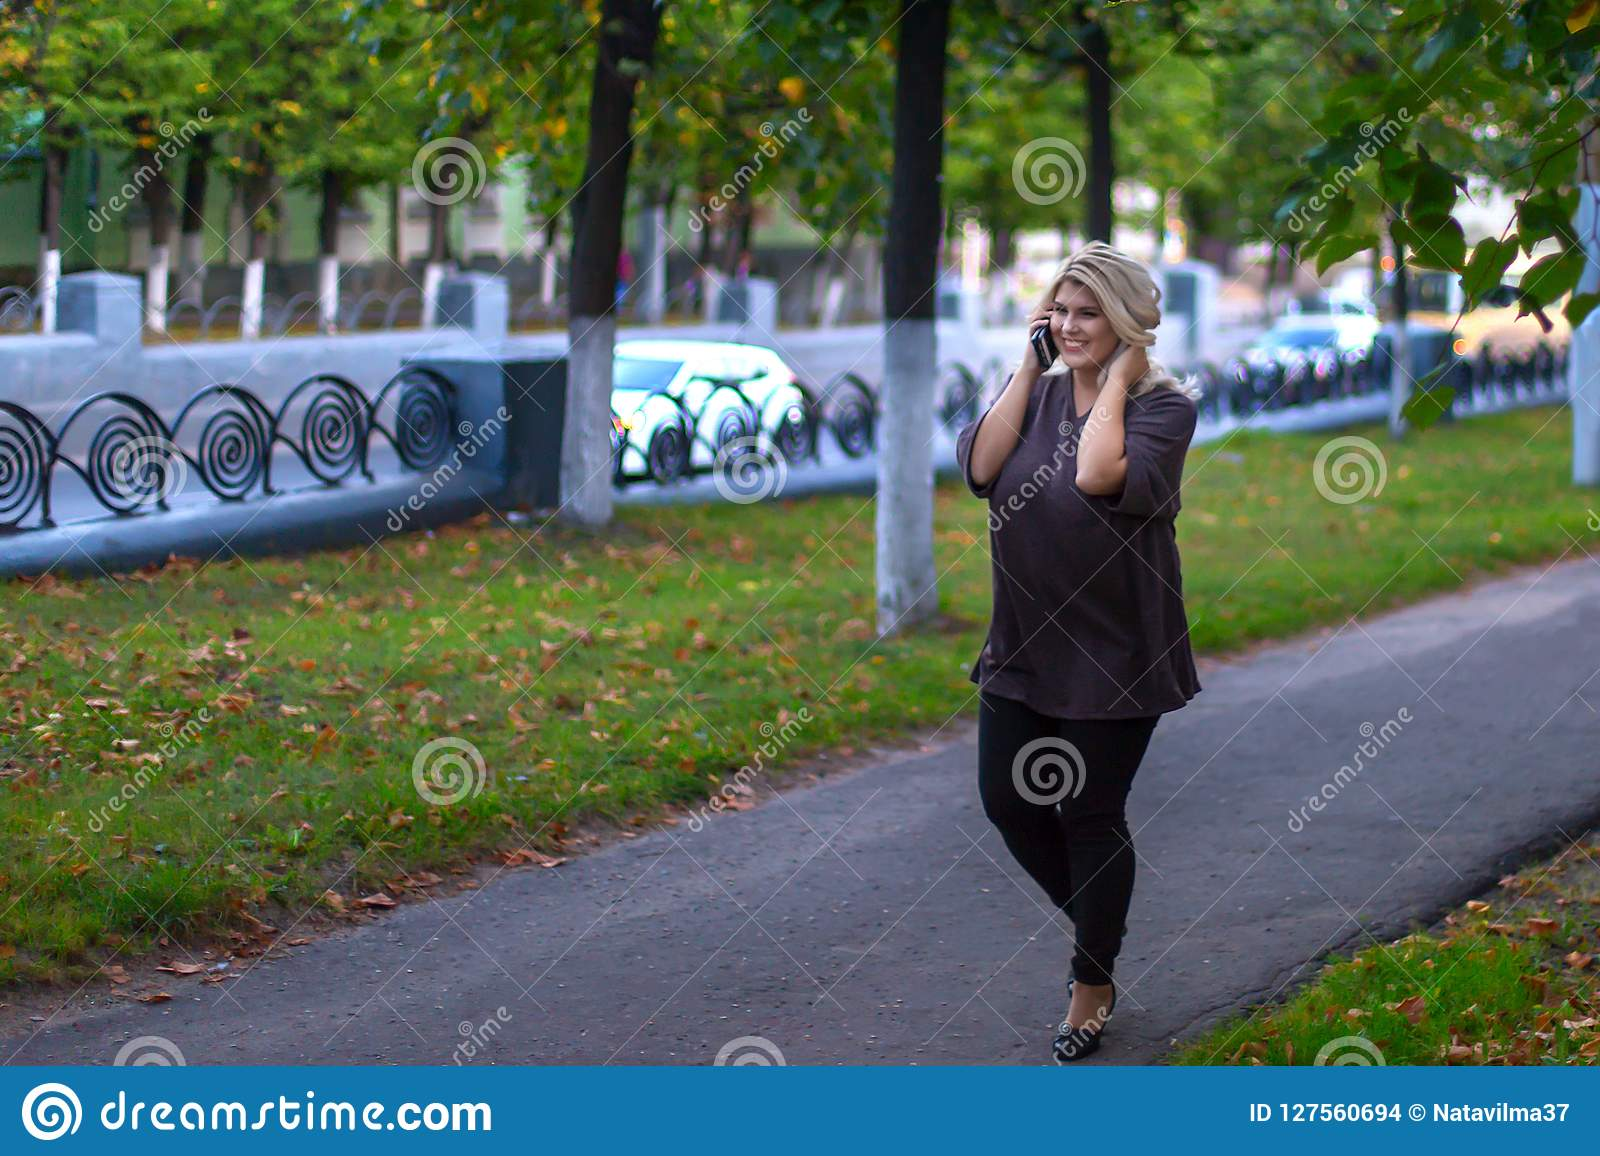phone: (1035, 319, 1065, 377)
talk: (1026, 294, 1107, 382)
